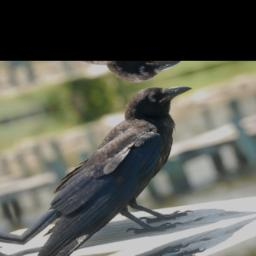Crow: (0, 77, 239, 256)
